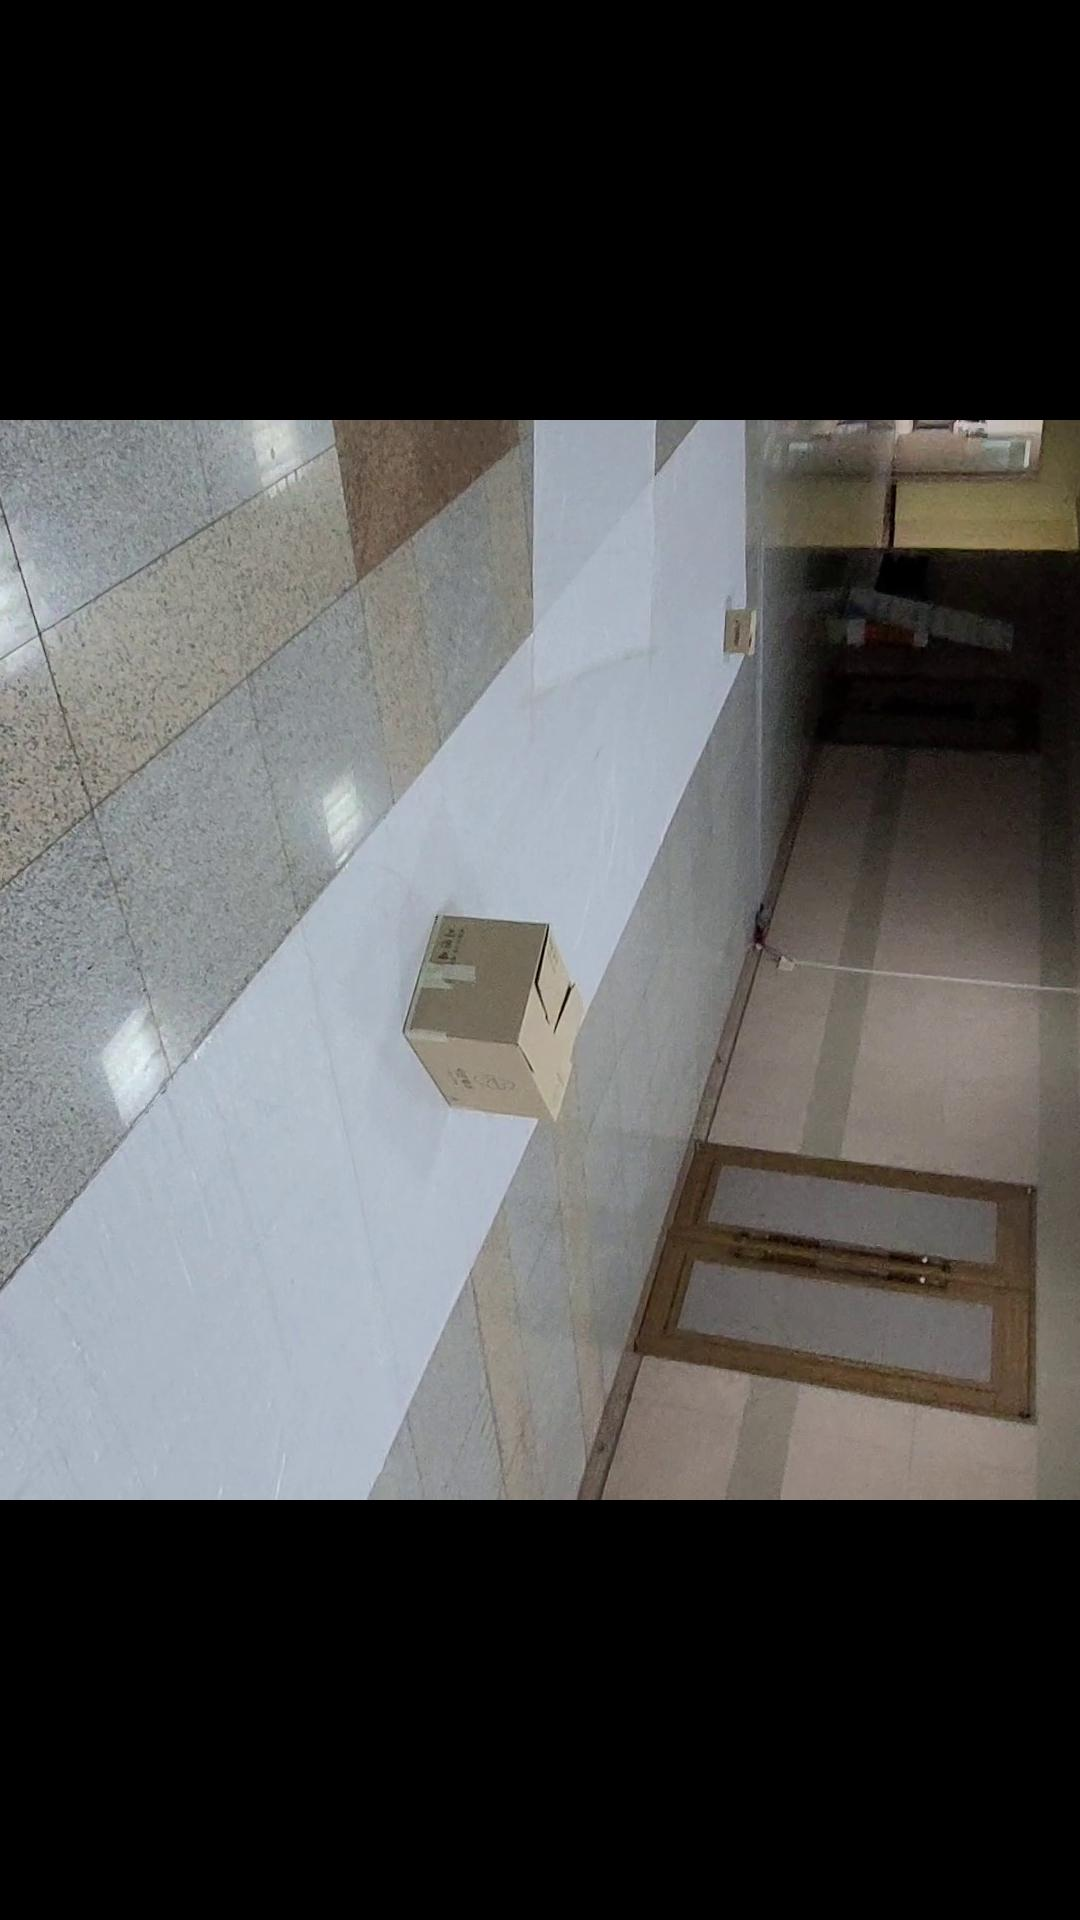Box: (375, 886, 597, 1155), (695, 585, 775, 690)
